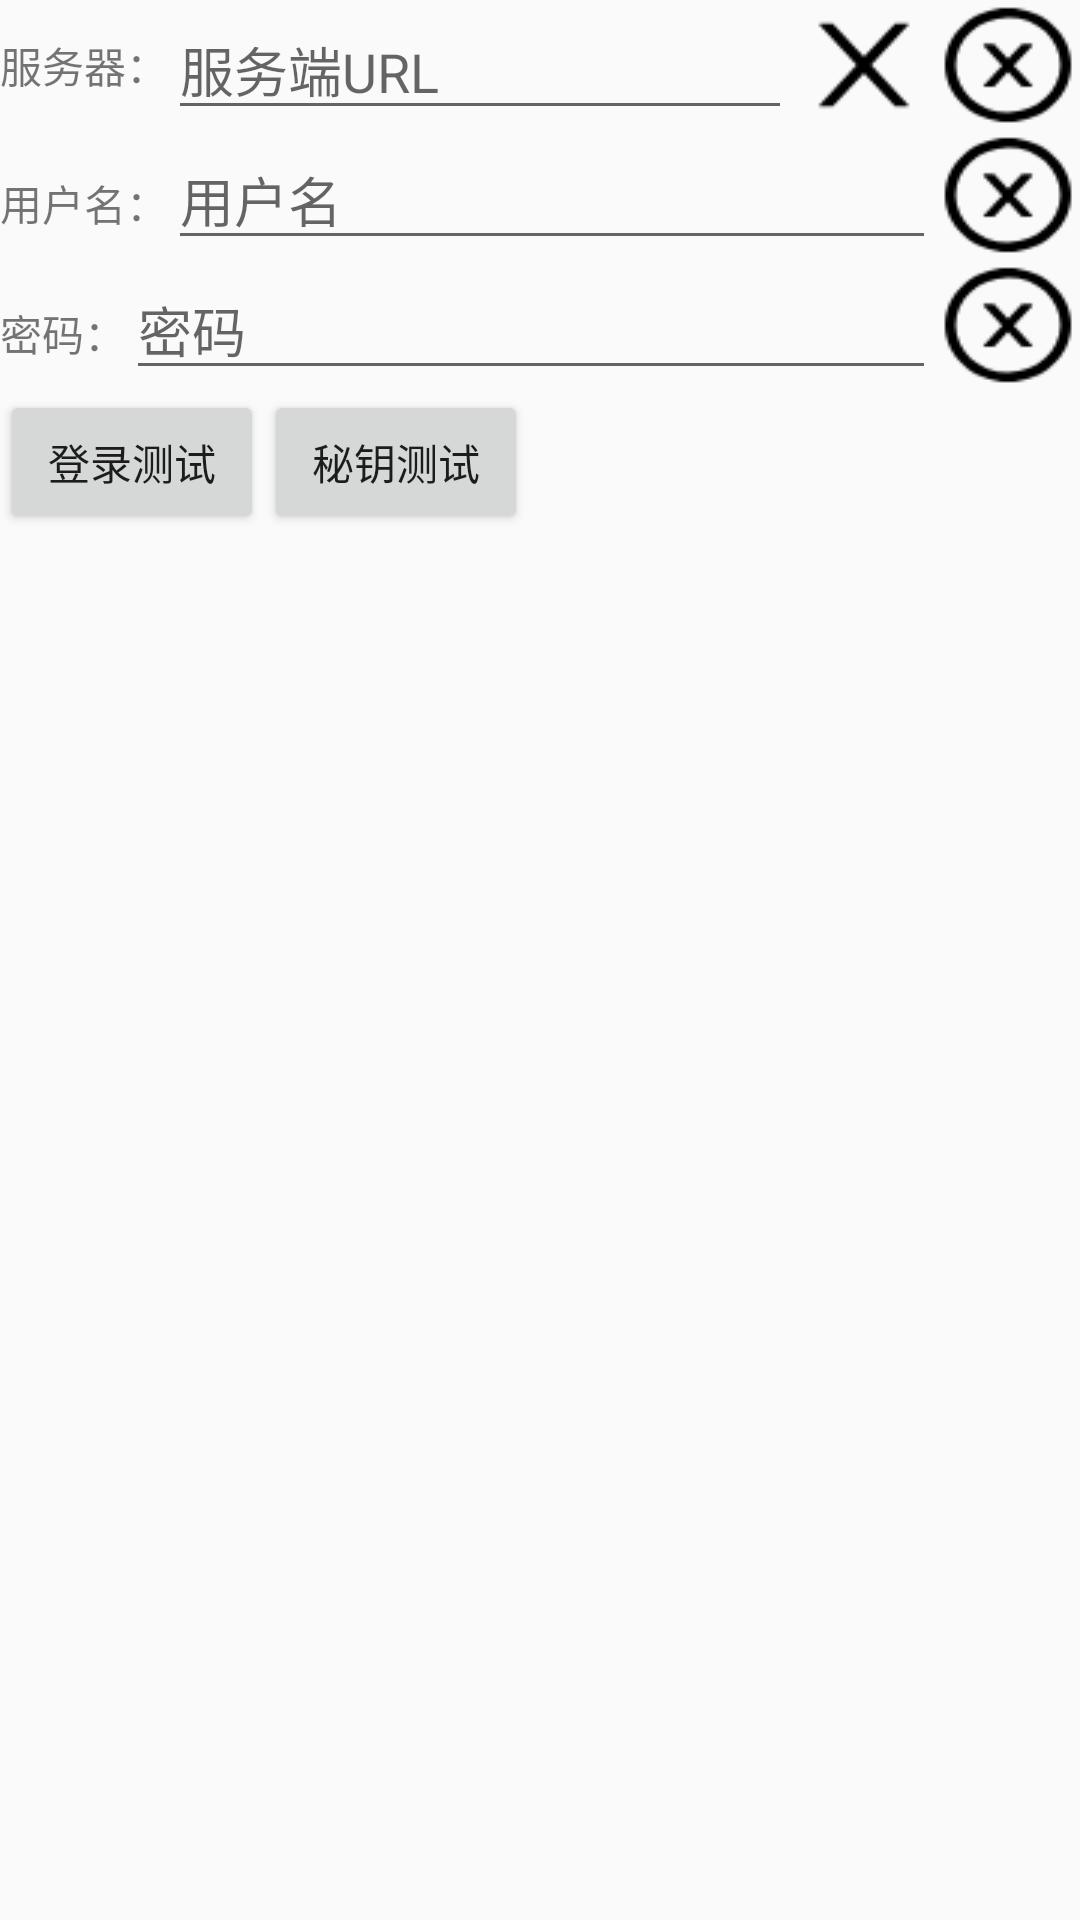

Named icons in this screenshot (1080w x 1920h) and their bounding boxes, (x1, y1, x2, y2):
close: (818, 21, 910, 109)
